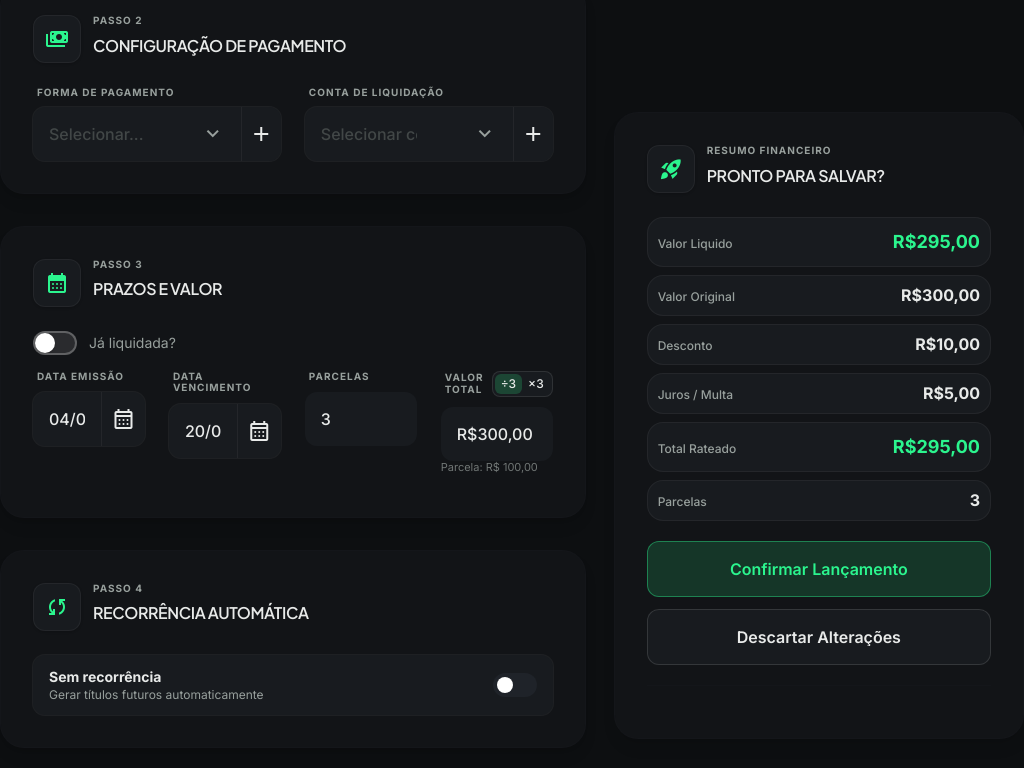
Test: FinancialAccountFormPage › switches to parcela mode and shows Valor Parcela label
This screenshot has width=1024, height=768.
Click the button titled "Parcela × 3x": (536, 384) [522,374,550,394]
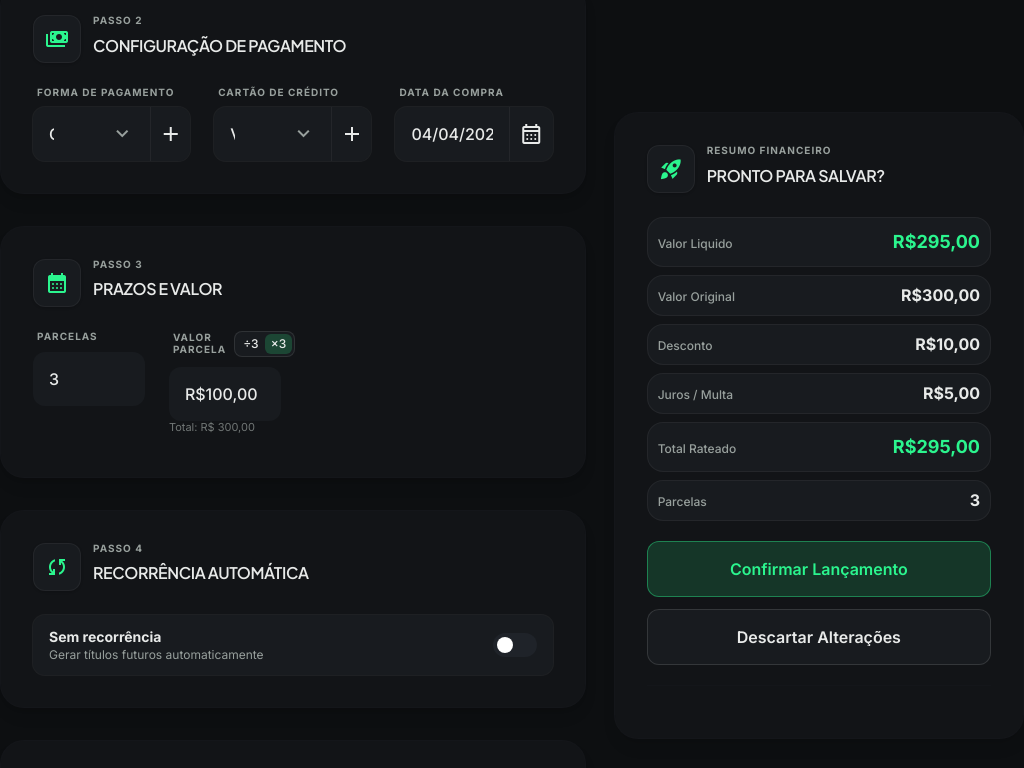
Now the text "Valor Parcela" is shown, box [173,332,226,355]
Now the text "Total: R$ 300,00" is shown, box [169,420,255,434]
